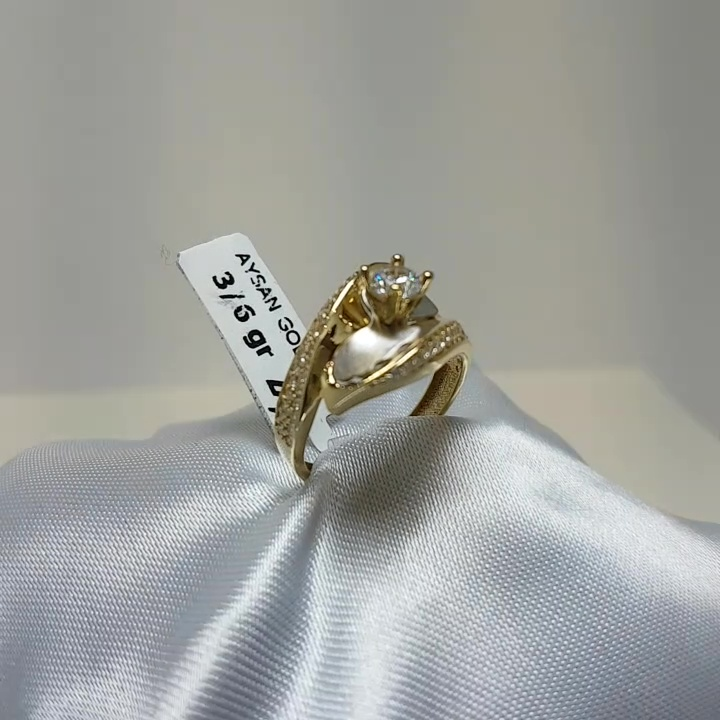Ring 6: (260, 236, 478, 505)
